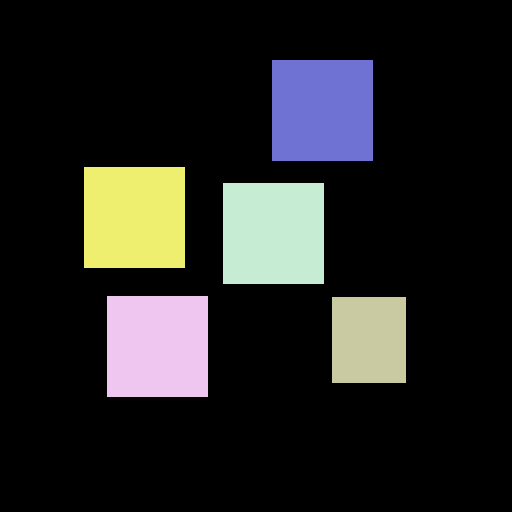rectangle: (332, 297, 405, 382)
square: (107, 296, 207, 396), (223, 183, 323, 283), (84, 167, 184, 267), (272, 60, 372, 160)
